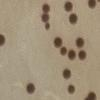brown: (61, 66, 72, 81), (26, 80, 36, 95), (38, 12, 50, 24), (53, 35, 63, 49), (68, 12, 78, 25), (68, 48, 78, 61), (76, 35, 85, 49), (78, 49, 87, 62), (0, 32, 7, 48), (66, 84, 76, 95), (64, 1, 73, 12), (86, 0, 97, 9), (60, 45, 68, 57), (88, 90, 97, 100), (42, 2, 50, 12), (43, 23, 51, 32), (83, 95, 89, 100), (96, 0, 100, 3)
